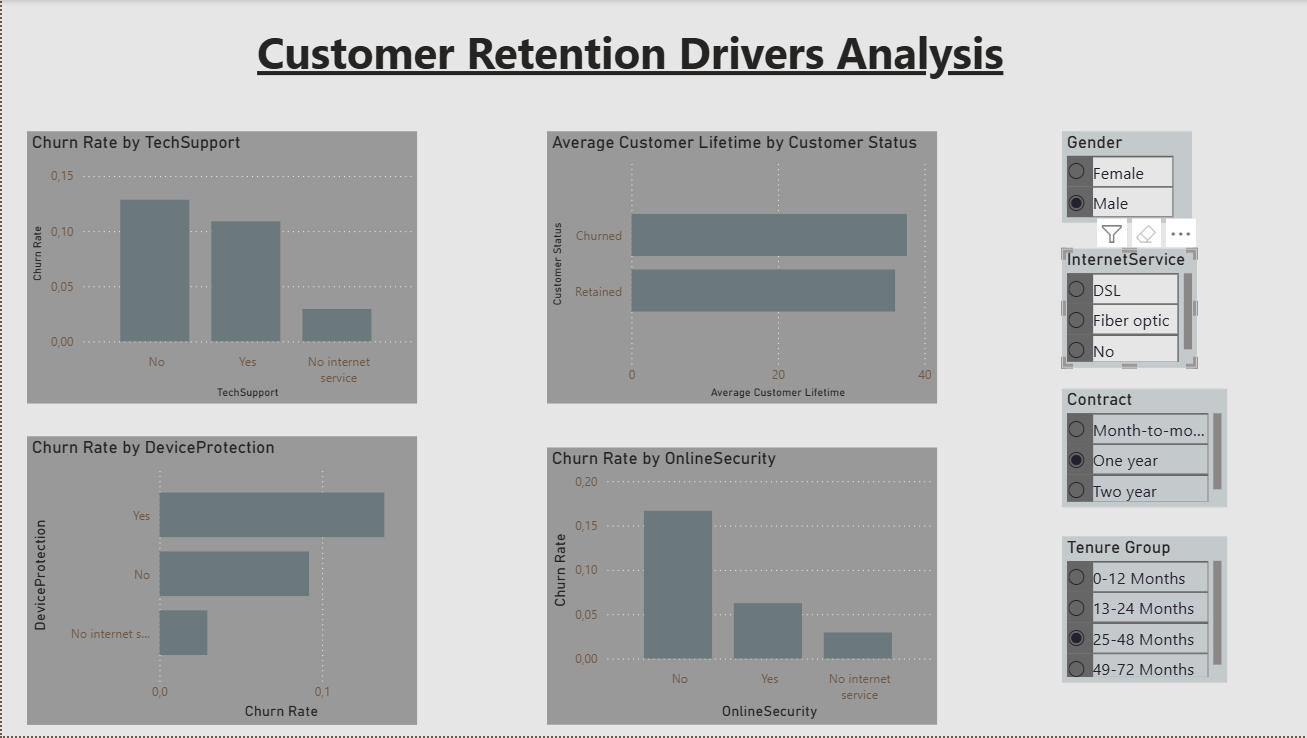

Layout of this report page (visuals, bound fields, positions):
{"tool":"powerbi","page":{"name":"Retention","canvas":[1280,720],"ordinal":1},"visuals":[{"type":"listSlicer","title":"Gender","fields":{"Values":["WA_Fn-UseC_-Telco-Customer-Chur.gender"]},"box":[1037,128.4,127.2,89.3],"z":0},{"type":"listSlicer","fields":{"Values":["WA_Fn-UseC_-Telco-Customer-Chur.InternetService"]},"box":[1037,243.3,132.1,116.2],"z":1000},{"type":"listSlicer","fields":{"Values":["WA_Fn-UseC_-Telco-Customer-Chur.Contract"]},"box":[1037,380.3,161.4,116.2],"z":2000},{"type":"listSlicer","fields":{"Values":["WA_Fn-UseC_-Telco-Customer-Chur.Tenure Group"]},"box":[1037,524.6,161.4,143.1],"z":3000},{"type":"columnChart","fields":{"Category":["WA_Fn-UseC_-Telco-Customer-Chur.TechSupport"],"Y":["WA_Fn-UseC_-Telco-Customer-Chur.Churn Rate"]},"box":[24.5,128.4,381.5,266.6],"z":4000},{"type":"columnChart","fields":{"Category":["WA_Fn-UseC_-Telco-Customer-Chur.OnlineSecurity"],"Y":["WA_Fn-UseC_-Telco-Customer-Chur.Churn Rate"]},"box":[533.2,437.8,381.5,271.5],"z":5000},{"type":"clusteredBarChart","fields":{"Category":["WA_Fn-UseC_-Telco-Customer-Chur.DeviceProtection"],"Y":["WA_Fn-UseC_-Telco-Customer-Chur.Churn Rate"]},"box":[24.5,426.8,381.5,282.5],"z":6000},{"type":"clusteredBarChart","fields":{"Y":["WA_Fn-UseC_-Telco-Customer-Chur.Average Tenure"],"Category":["WA_Fn-UseC_-Telco-Customer-Chur.Customer Status"]},"box":[533.2,128.4,381.5,266.6],"z":7000},{"type":"textbox","box":[244,16,792,78],"z":8000}]}

Visuals, with their boxes in screenshot pixels (x1, y1, x2, y2), scaled from the page's 1280x720 canvas onto the 1307x738 screenshot:
"Gender" listSlicer: {"left": 1059, "top": 132, "right": 1189, "bottom": 223}
listSlicer - WA_Fn-UseC_-Telco-Customer-Chur.InternetService: {"left": 1059, "top": 249, "right": 1194, "bottom": 368}
listSlicer - WA_Fn-UseC_-Telco-Customer-Chur.Contract: {"left": 1059, "top": 390, "right": 1224, "bottom": 509}
listSlicer - WA_Fn-UseC_-Telco-Customer-Chur.Tenure Group: {"left": 1059, "top": 538, "right": 1224, "bottom": 684}
columnChart - WA_Fn-UseC_-Telco-Customer-Chur.TechSupport x WA_Fn-UseC_-Telco-Customer-Chur.Churn Rate: {"left": 25, "top": 132, "right": 415, "bottom": 405}
columnChart - WA_Fn-UseC_-Telco-Customer-Chur.OnlineSecurity x WA_Fn-UseC_-Telco-Customer-Chur.Churn Rate: {"left": 544, "top": 449, "right": 934, "bottom": 727}
clusteredBarChart - WA_Fn-UseC_-Telco-Customer-Chur.DeviceProtection x WA_Fn-UseC_-Telco-Customer-Chur.Churn Rate: {"left": 25, "top": 437, "right": 415, "bottom": 727}
clusteredBarChart - WA_Fn-UseC_-Telco-Customer-Chur.Average Tenure x WA_Fn-UseC_-Telco-Customer-Chur.Customer Status: {"left": 544, "top": 132, "right": 934, "bottom": 405}
textbox: {"left": 249, "top": 16, "right": 1058, "bottom": 96}
